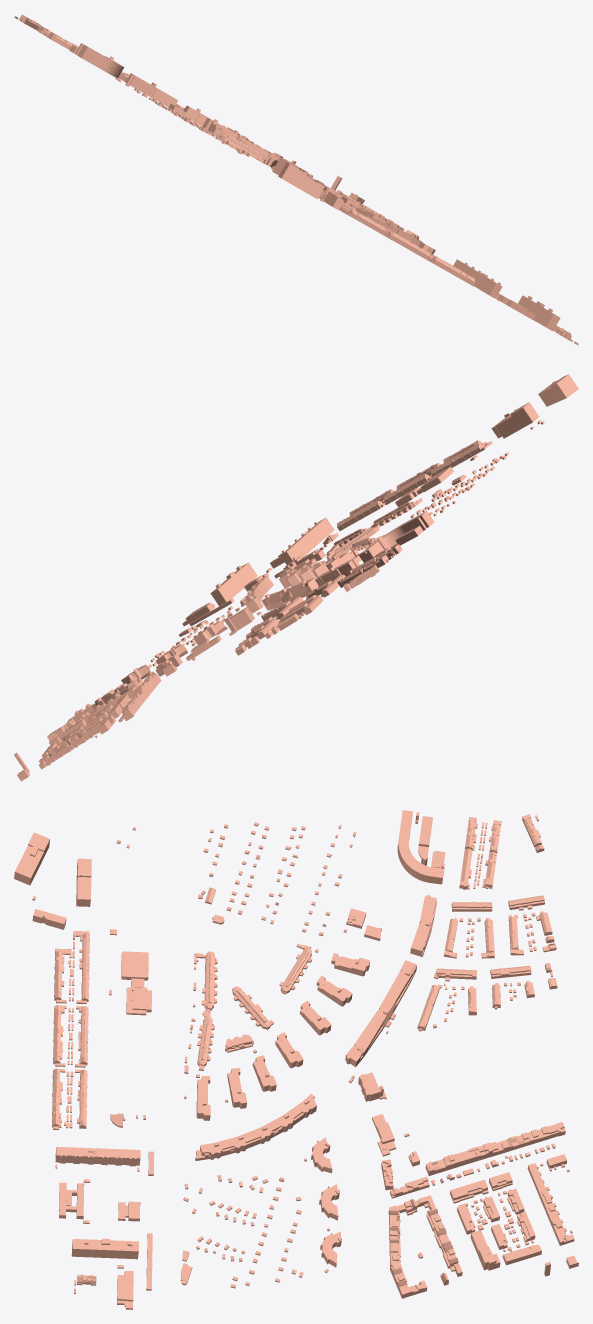
The picture shows the model from 3 angles, top to bottom: view 1: azimuth 30°, elevation 25°; view 2: azimuth 150°, elevation 25°; view 3: azimuth 270°, elevation 25°; orthographic projection. The views are drawn at different scales.
Bounding box in the file's own units: 536 × 398 × 653.
